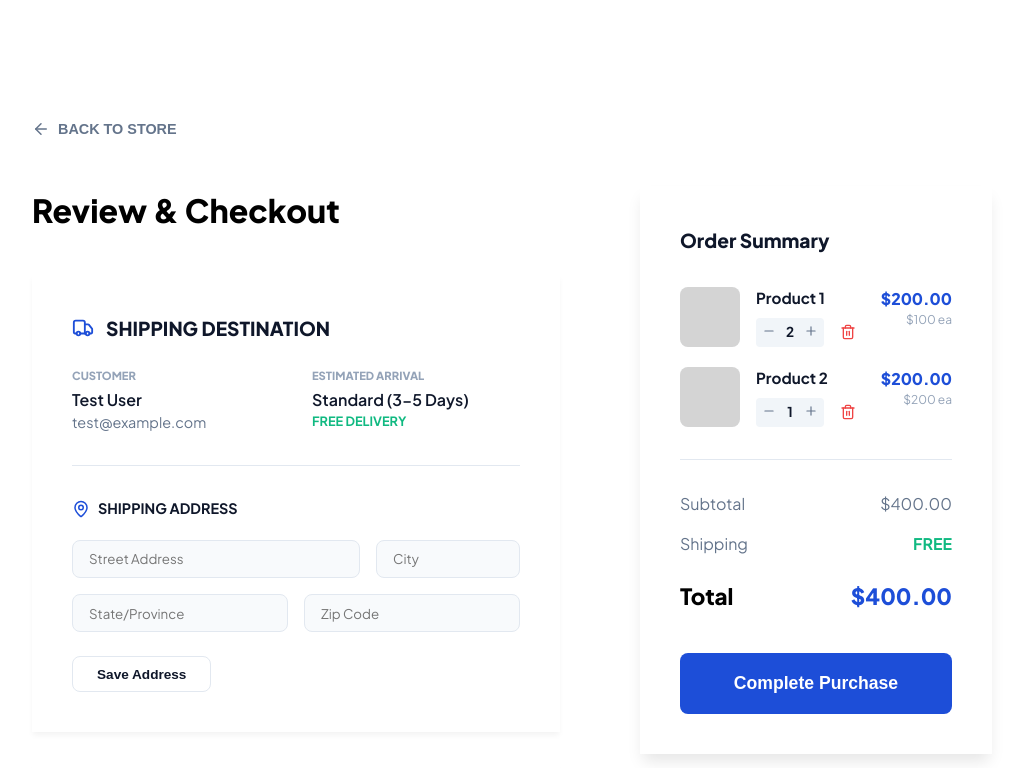
Test: Checkout Component › saves address and shows formatted details
This screenshot has width=1024, height=768.
Step 1. Type "Main St" into the field with placeholder "Street Address" → (216, 559), box 72,540 -> 360,578
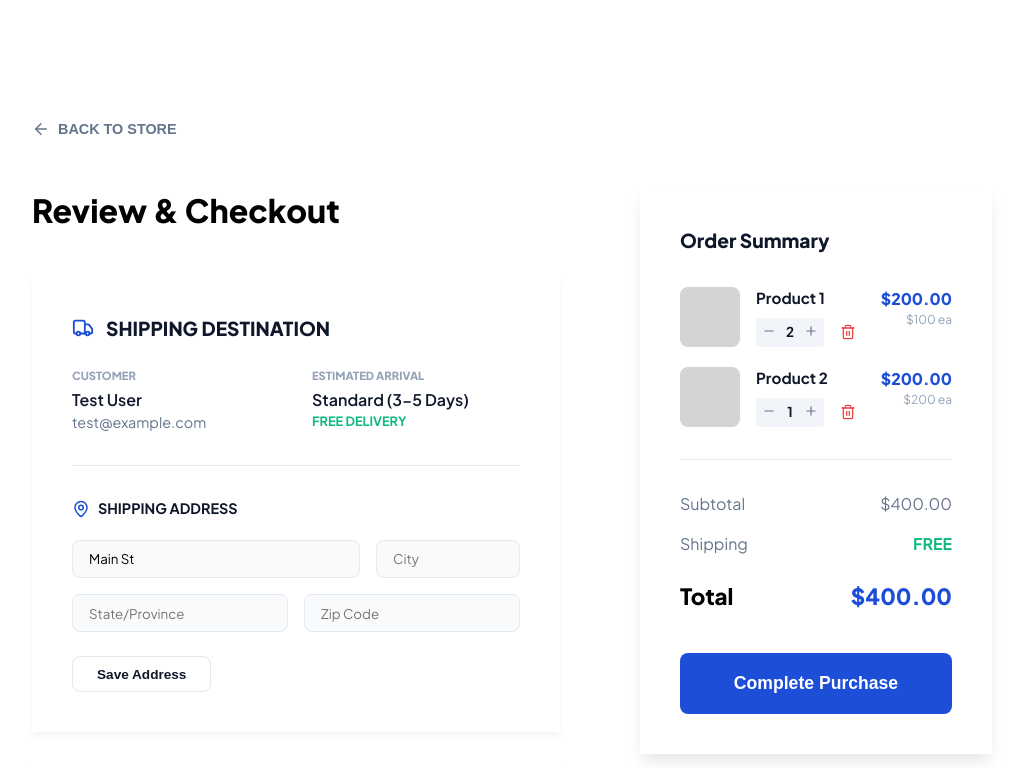
Step 2. Type "San Jose" into the field with placeholder "City" → (448, 559), box 376,540 -> 520,578
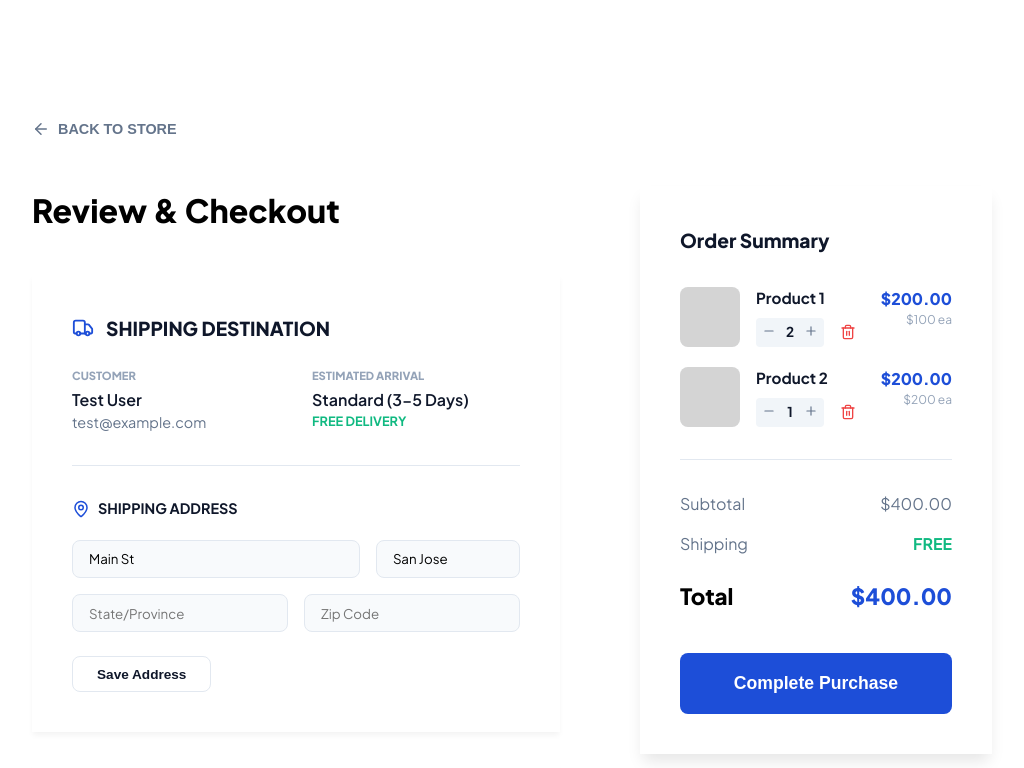
Step 3. Type "CA" into the field with placeholder "State/Province" → (180, 613), box 72,594 -> 288,632
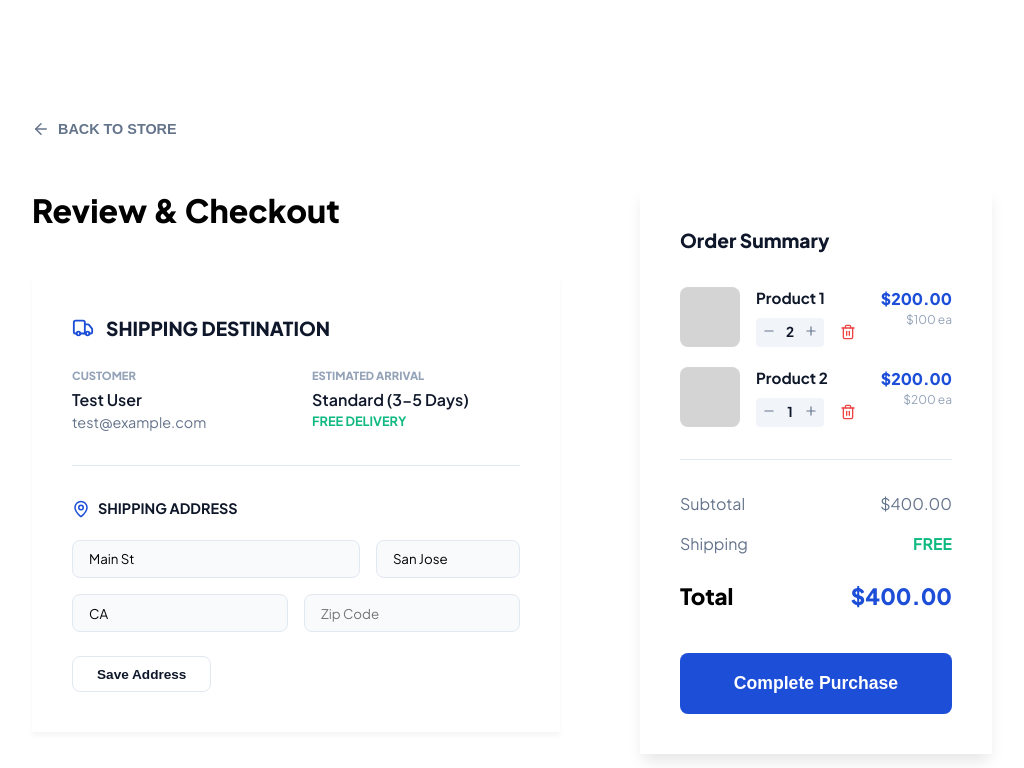
Step 4. Type "95112" into the field with placeholder "Zip Code" → (412, 613), box 304,594 -> 520,632
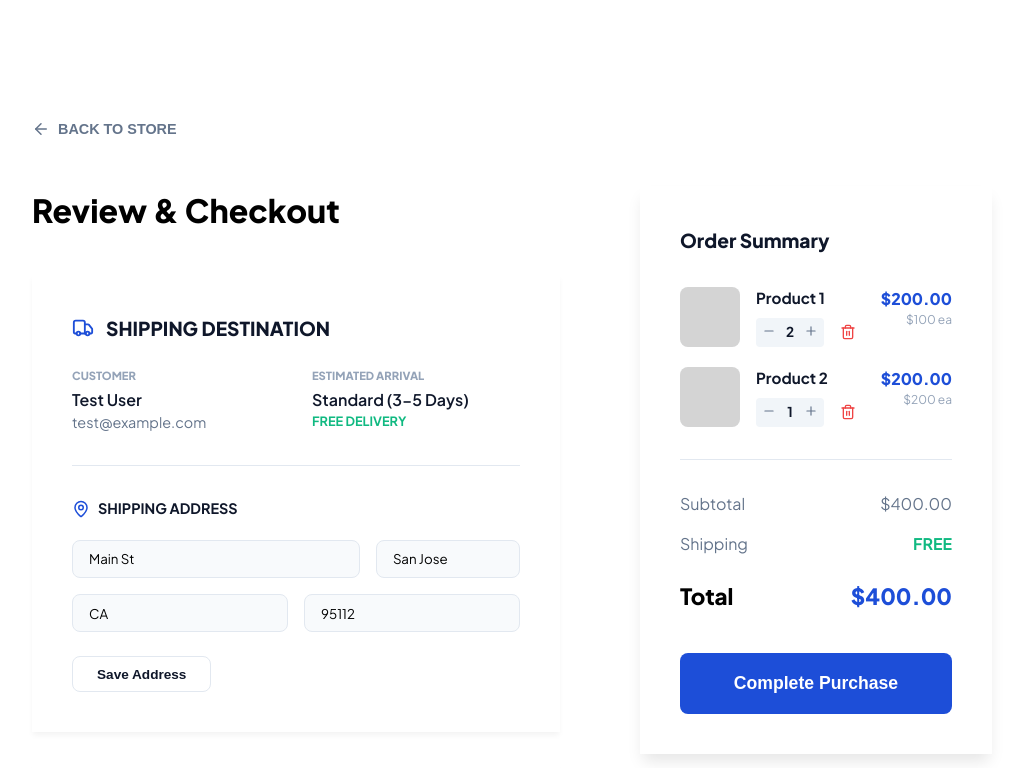
Step 5. Click the button "Save Address" → (142, 674), box 72,656 -> 211,692
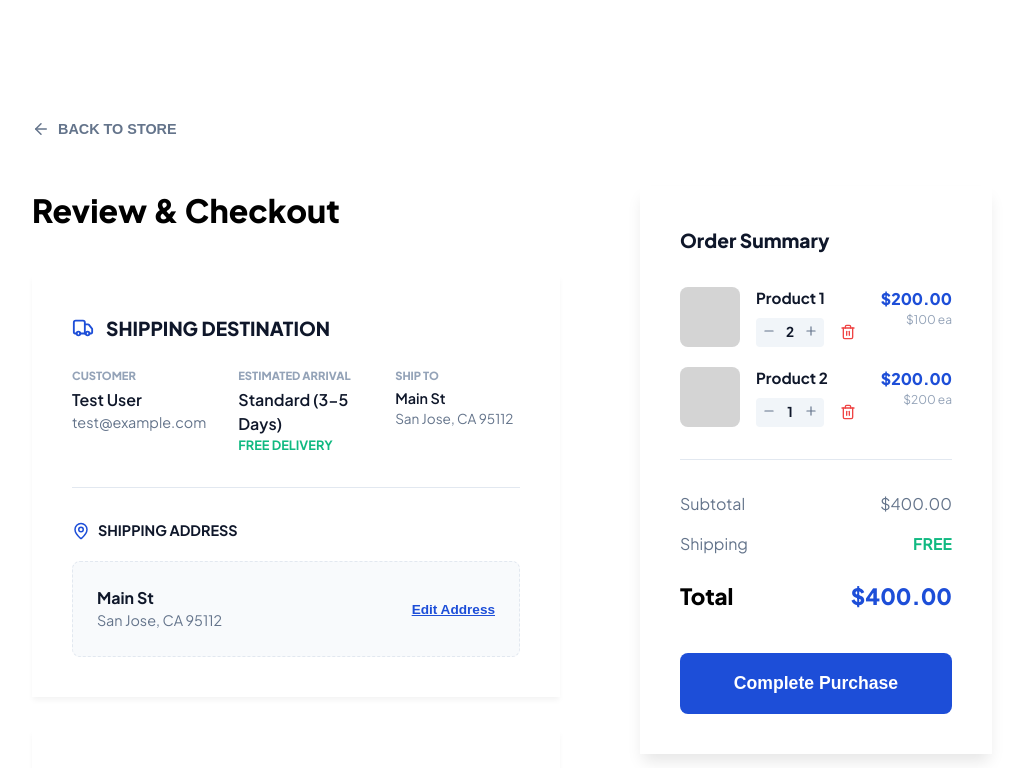
Expected: the text "SHIP TO" is shown, 395,368 -> 439,382
Expected: the text "Main St" below "SHIP TO" is shown, 395,389 -> 446,407
Expected: the button "Edit Address" is shown, 412,602 -> 495,617
